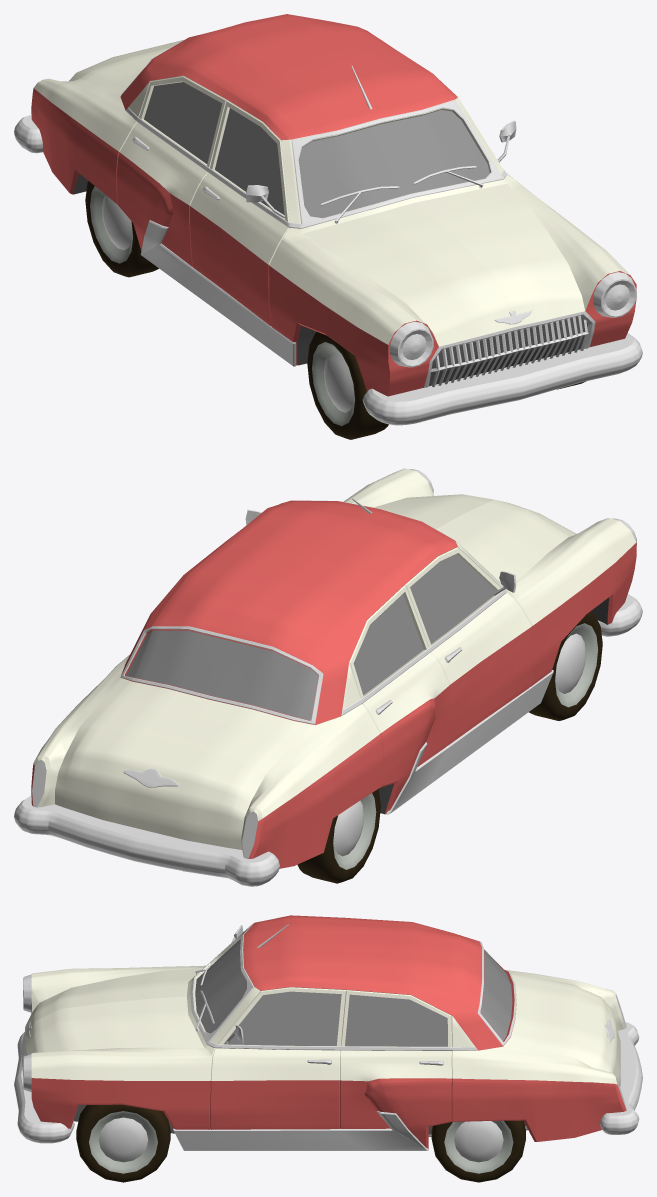
The model's file is Volga_HighPoly.fbx.
3 views of the same model, one above another, from view 1: azimuth 30°, elevation 25°; view 2: azimuth 150°, elevation 25°; view 3: azimuth 270°, elevation 25° (orthographic). The views are drawn at different scales.
Parts seen in each view (by area): view 1: Body, Wheel_FR, Wheel_RR; view 2: Body, Wheel_FR, Wheel_RR; view 3: Body, Wheel_FL, Wheel_RL.
Boxes of the visible parts, x1,y1,x2,y2 form: Body: (14, 14, 642, 425); Wheel_FR: (307, 332, 388, 439); Wheel_RR: (85, 181, 158, 277); Body: (14, 468, 642, 886); Wheel_FR: (529, 611, 602, 720); Wheel_RR: (297, 789, 380, 883); Body: (14, 915, 642, 1150); Wheel_FL: (76, 1104, 170, 1182); Wheel_RL: (431, 1120, 525, 1182).
Bounding box in the file's own units: 188 × 175 × 468.
